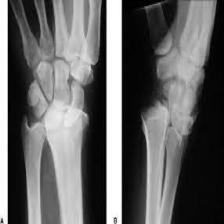intra-articular-fracture: (9, 0, 217, 224)
